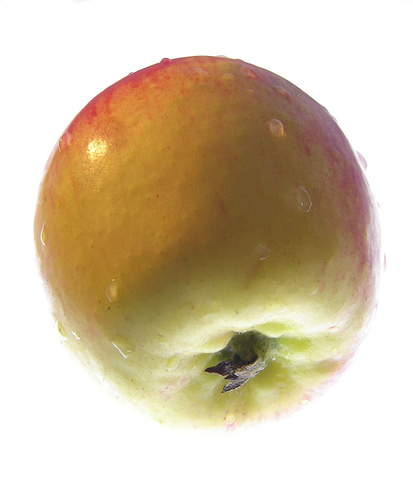apple: (35, 57, 382, 430)
